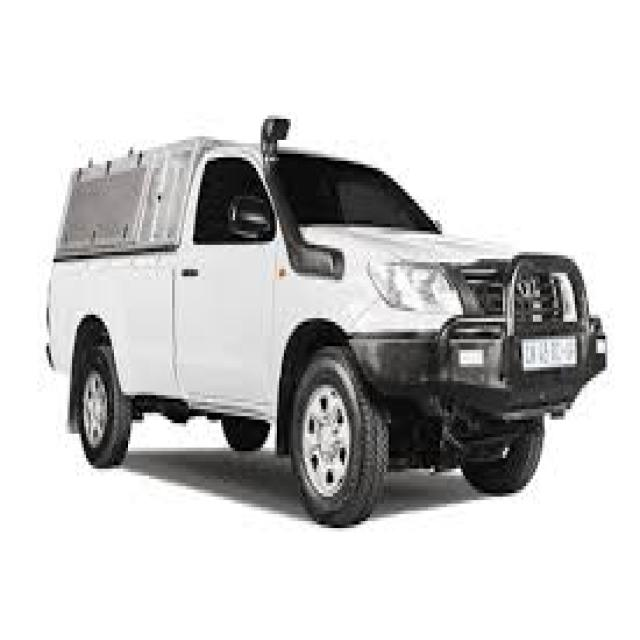Pickup Trucks: (45, 133, 608, 528)
